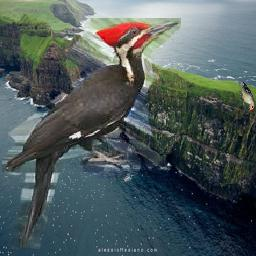Woodpecker: (3, 19, 182, 250), (240, 83, 255, 112)
